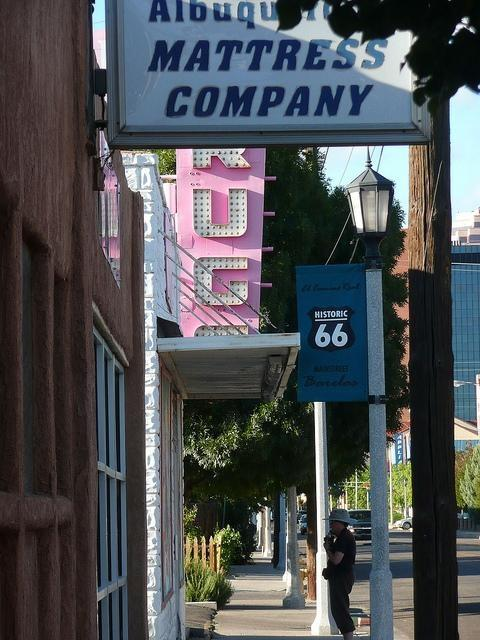car: (347, 508, 372, 541), (298, 514, 307, 535)
